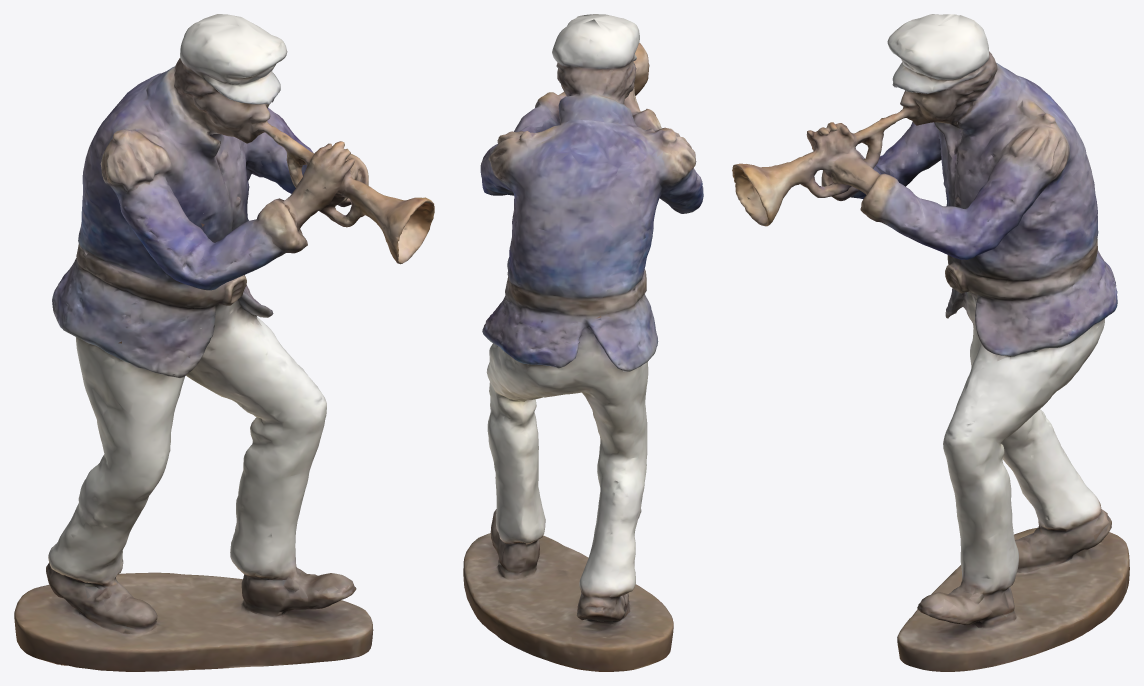
File: khanna-rajinder-kaka-horn-walae.glb
3 views of the same model, side by side, from view 1: azimuth 30°, elevation 25°; view 2: azimuth 150°, elevation 25°; view 3: azimuth 270°, elevation 25° (orthographic). The views are drawn at different scales.
Parts seen in each view (by area): view 1: SculptureD_002; view 2: SculptureD_002; view 3: SculptureD_002.
Boxes of the visible parts, left/top/right/bottom form: SculptureD_002: left=14, top=14, right=434, bottom=671; SculptureD_002: left=463, top=14, right=703, bottom=671; SculptureD_002: left=732, top=14, right=1129, bottom=671.
Size of the model in its own units: 0.2277 by 0.5 by 0.3058.
1 material, 1 textured.
